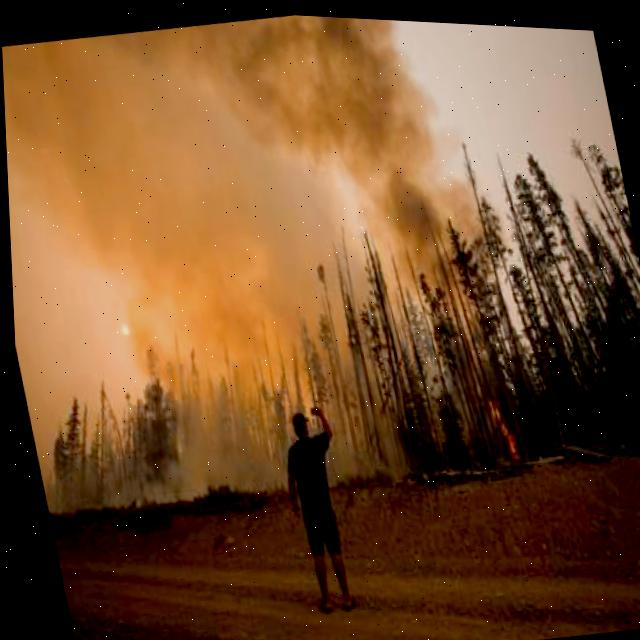smoke: (2, 12, 487, 512)
